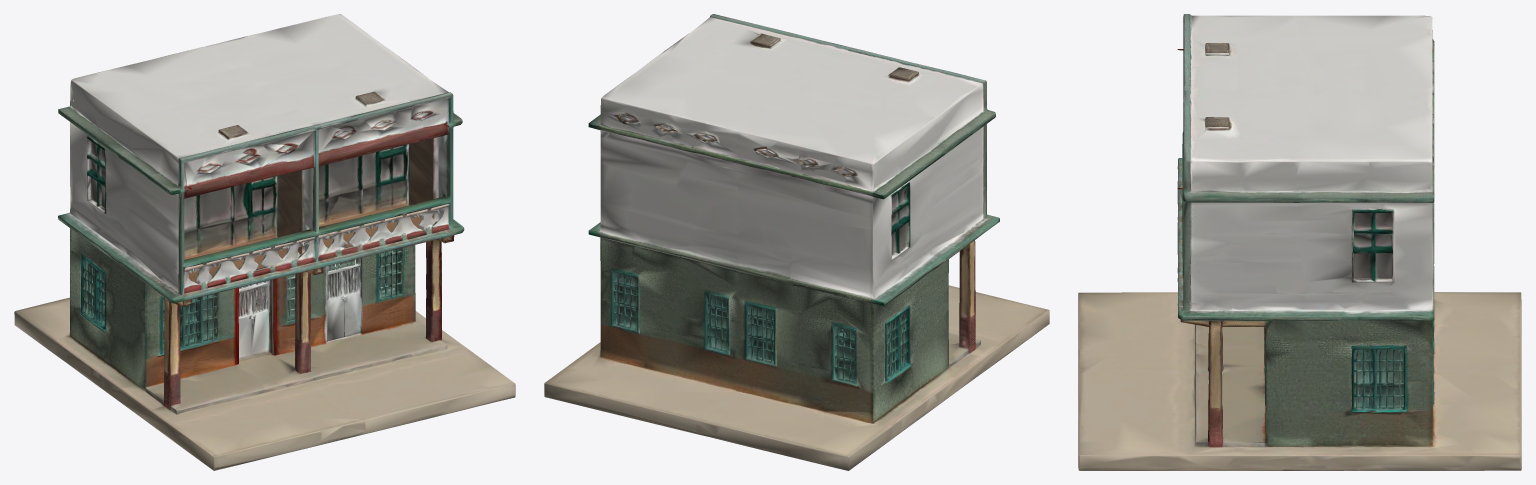
File: storefront.glb
3 renders of one model, left to right at view 1: azimuth 30°, elevation 25°; view 2: azimuth 150°, elevation 25°; view 3: azimuth 270°, elevation 25°, orthographic. The views are drawn at different scales.
Parts seen in each view (by area): view 1: tripo_node_42c6cbc0-8cc7-450e-9276-ace21d02480f; view 2: tripo_node_42c6cbc0-8cc7-450e-9276-ace21d02480f; view 3: tripo_node_42c6cbc0-8cc7-450e-9276-ace21d02480f.
Boxes of the visible parts, left/top/right/bottom form: tripo_node_42c6cbc0-8cc7-450e-9276-ace21d02480f: left=14, top=14, right=515, bottom=470; tripo_node_42c6cbc0-8cc7-450e-9276-ace21d02480f: left=544, top=14, right=1049, bottom=470; tripo_node_42c6cbc0-8cc7-450e-9276-ace21d02480f: left=1078, top=14, right=1521, bottom=470.
Size of the model in its own units: 0.3491 by 0.3033 by 0.4.
1 material, 1 textured.
